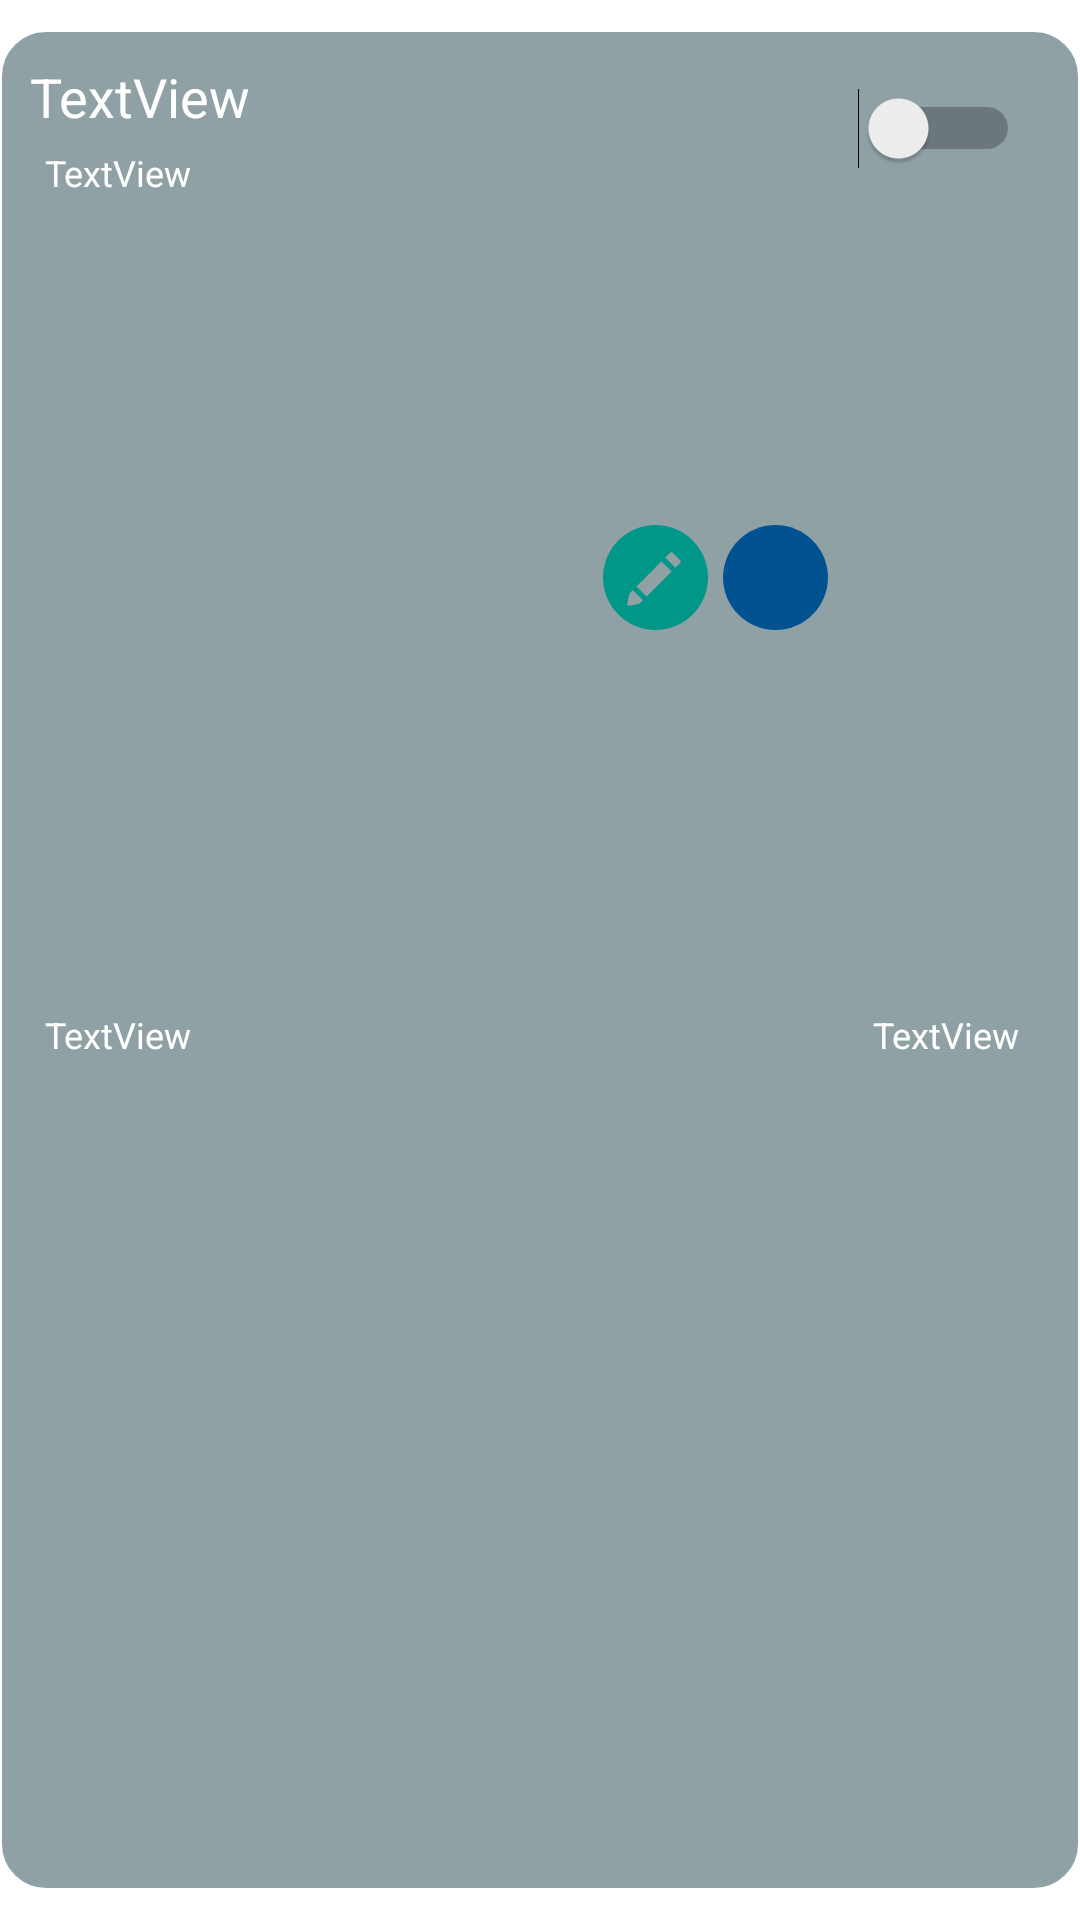

Screen size 1080×1920. Icon name, then its box in pixels as (x1, y1, x2, y2):
pencil: (603, 525, 708, 630)
